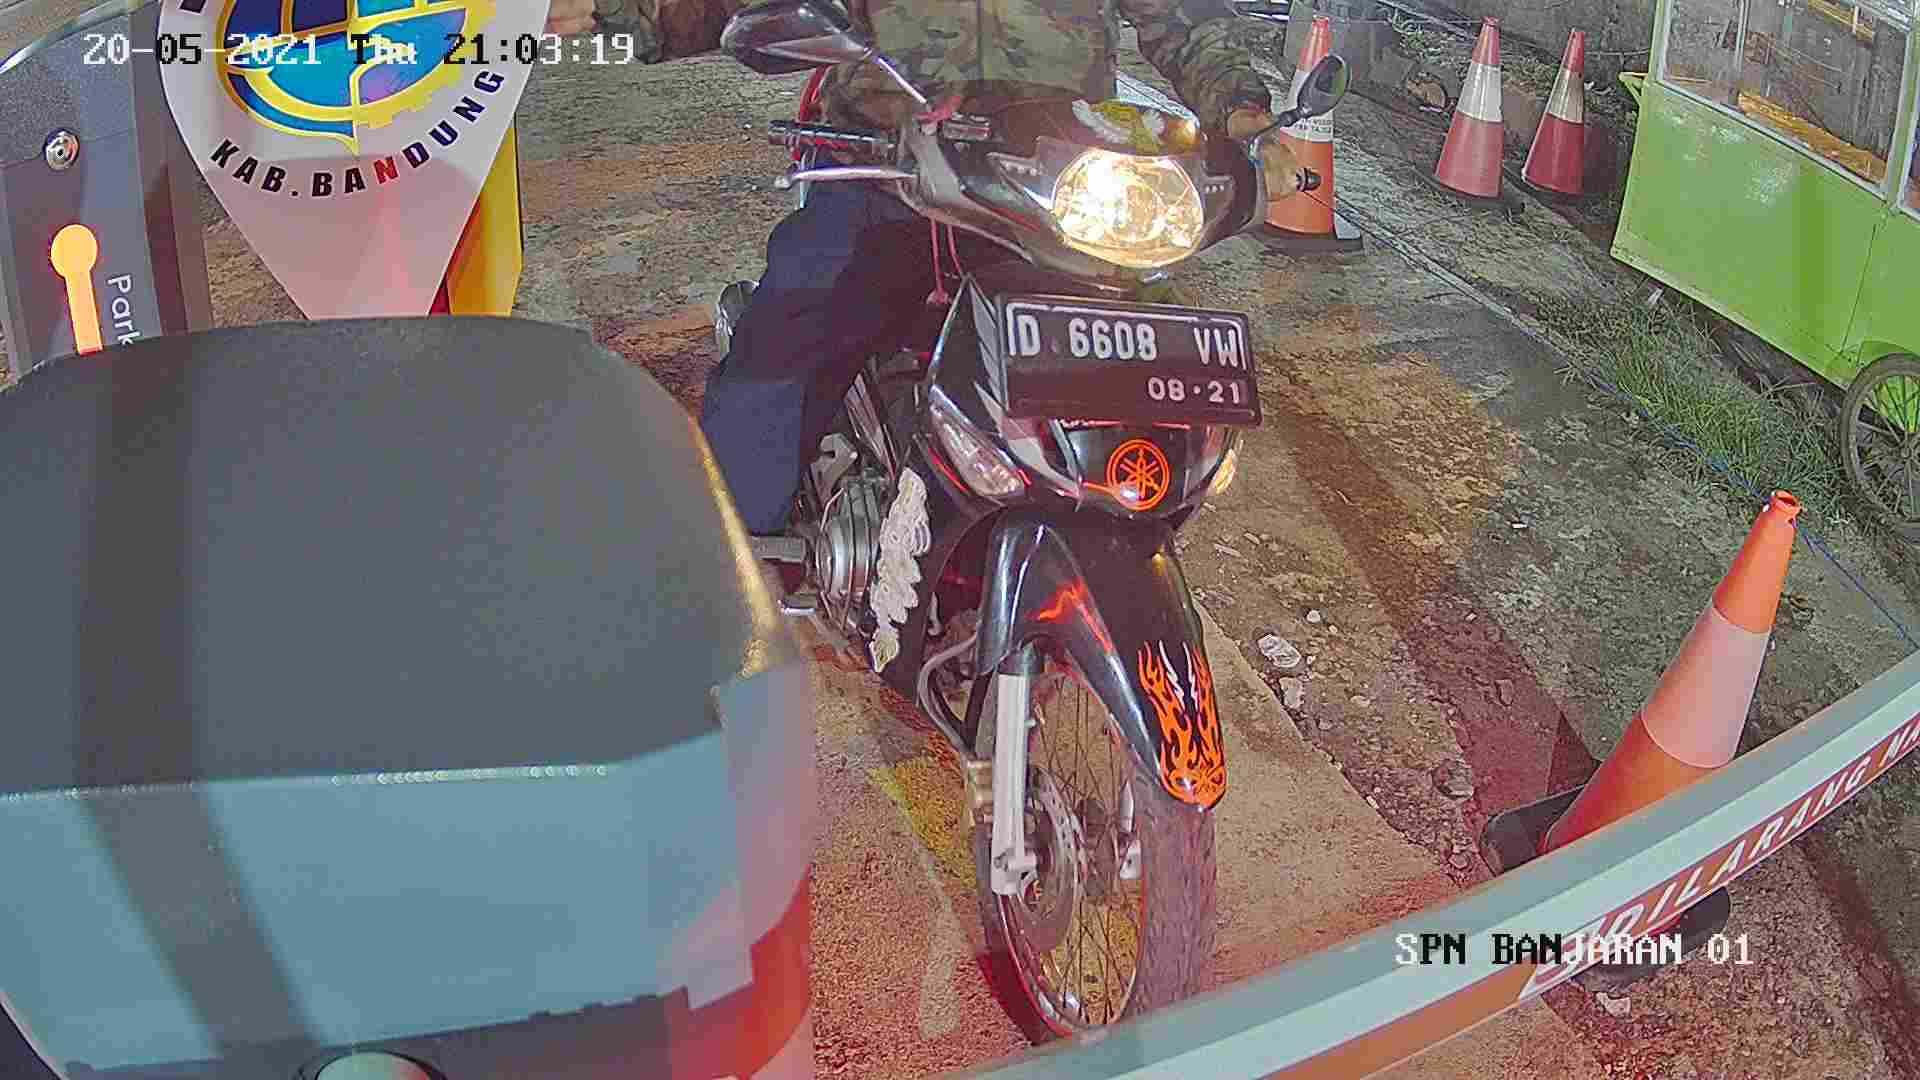motor: (711, 120, 1342, 1029)
